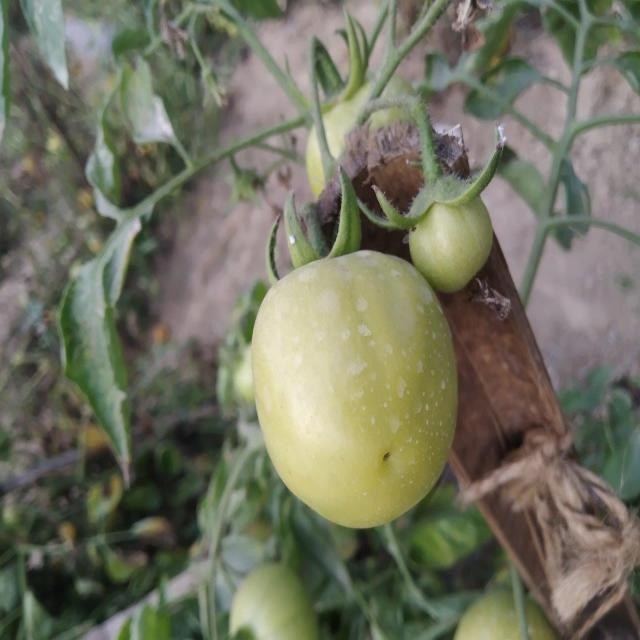Unripe: (251, 248, 457, 530), (406, 187, 494, 298)
